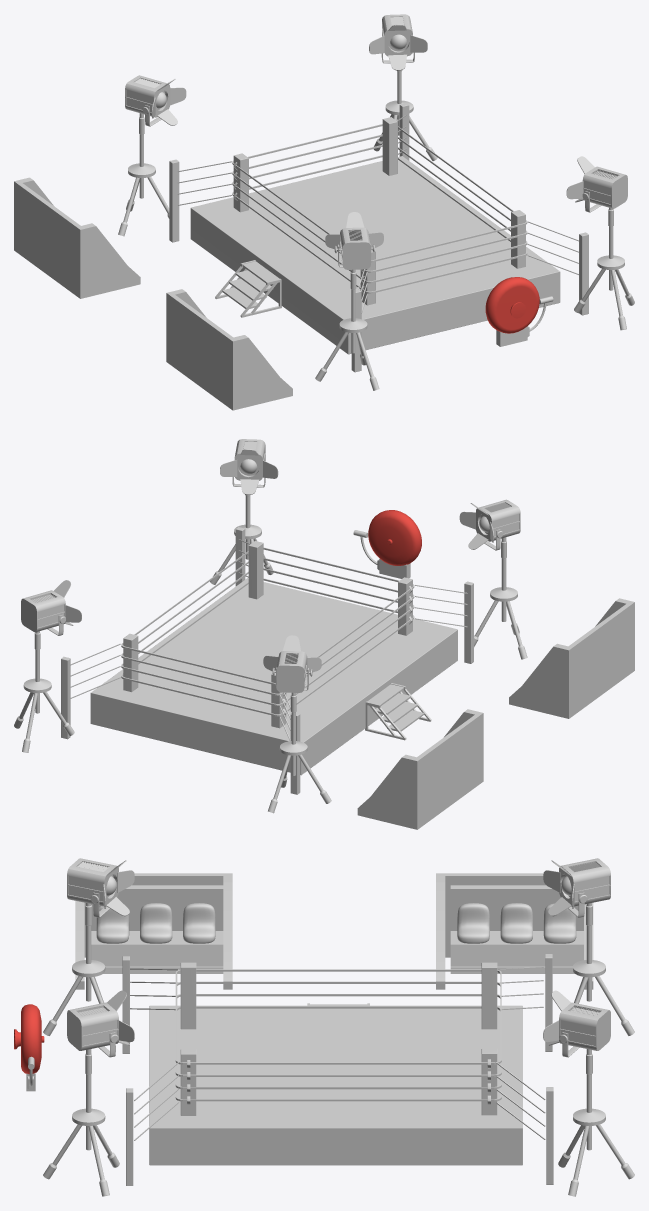
File: action_R.fbx
The picture shows the model from 3 angles, top to bottom: view 1: azimuth 30°, elevation 25°; view 2: azimuth 150°, elevation 25°; view 3: azimuth 270°, elevation 25°; orthographic projection. The views are drawn at different scales.
Parts seen in each view (by area): view 1: Cube.439, Cube.444, Cube.447, Cube.443, Cube.442, Cube.440, Cube.441, Cylinder.034, Cube.451, Cube.438, Cube.450, Cylinder.032; view 2: Cube.439, Cube.444, Cube.443, Cube.447, Cube.442, Cube.440, Cube.441, Cylinder.034, Cube.451, Cube.438, Cube.450, Cylinder.032; view 3: Cube.439, Cube.444, Cube.442, Cube.445, Cube.448, Cube.440, Cube.446, Cube.449, Cube.443, Cube.447, Cube.441, Cube.438 (+1 smaller).
Part boxes in pixels (x1,y1,x2,y2): Cube.439: (190,156,560,354); Cube.444: (118,14,634,390); Cube.447: (166,289,292,410); Cube.443: (14,177,140,298); Cube.442: (232,124,527,293); Cube.440: (233,117,525,305); Cube.441: (169,103,588,372); Cylinder.034: (485,277,539,333); Cube.451: (222,261,279,308); Cube.438: (177,115,578,313); Cube.450: (215,260,281,317); Cylinder.032: (496,296,553,346); Cube.439: (90,578,457,775); Cube.444: (14,439,527,813); Cube.443: (357,709,483,829); Cube.447: (509,598,634,718); Cube.442: (121,547,414,716); Cube.440: (123,541,412,728); Cube.441: (61,527,473,794); Cylinder.034: (368,510,421,565); Cube.451: (367,684,424,731); Cube.438: (70,539,467,740); Cube.450: (365,683,431,740); Cylinder.032: (353,530,410,578); Cube.439: (149,1005,522,1165); Cube.444: (43,858,634,1196); Cube.442: (175,969,501,1101); Cube.445: (450,885,583,973); Cube.448: (91,885,223,973); Cube.440: (180,962,497,1115); Cube.446: (457,903,576,943); Cube.449: (96,903,215,943); Cube.443: (436,873,593,989); Cube.447: (75,873,232,989); Cube.441: (122,954,553,1185); Cube.438: (130,966,545,1140).
Size of the model in its own units: 1208 by 445 by 1325.
